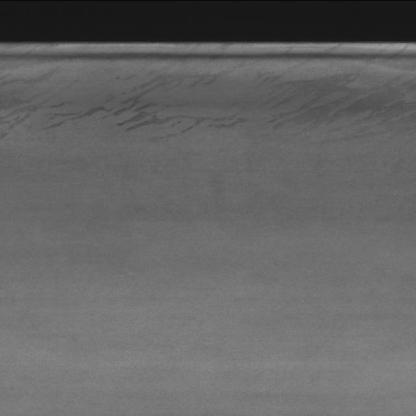water_spot: (13, 72, 408, 157)
